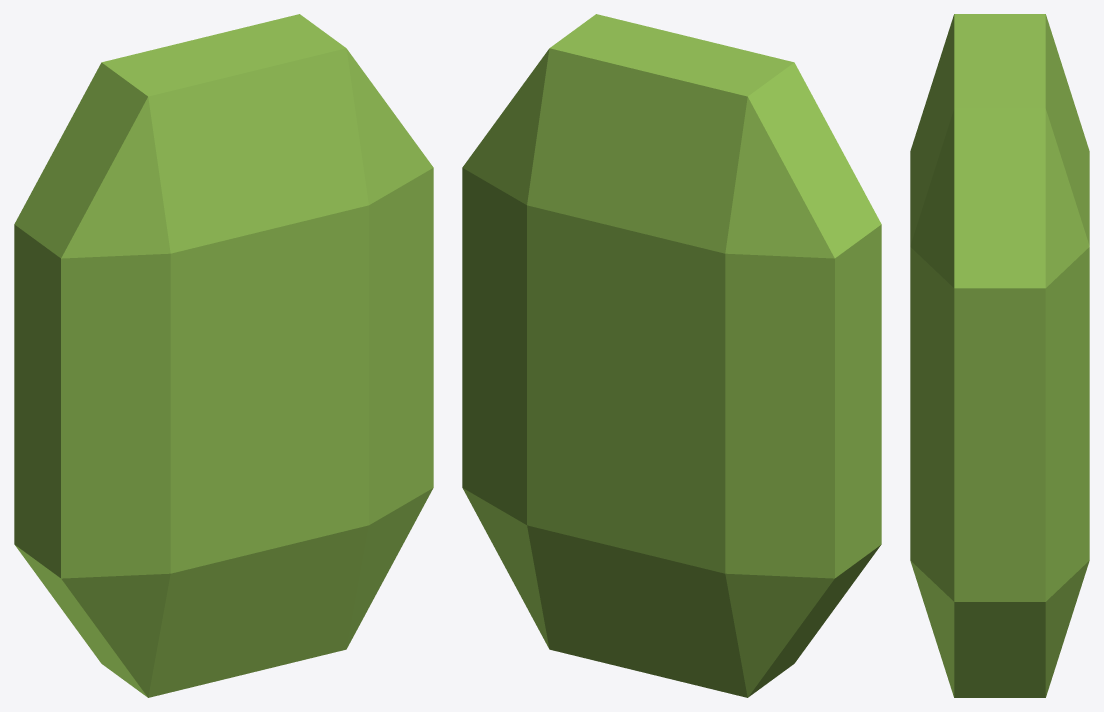
The model's file is Jade.fbx.
3 views of the same model, side by side, from view 1: azimuth 30°, elevation 25°; view 2: azimuth 150°, elevation 25°; view 3: azimuth 270°, elevation 25° (orthographic). The views are drawn at different scales.
Visible parts, largest first — view 1: Jade; view 2: Jade; view 3: Jade.
Part boxes in pixels (box(x1,y1,x2,y2)): Jade: box(14, 14, 433, 697); Jade: box(462, 14, 881, 697); Jade: box(910, 14, 1089, 697).
Size of the model in its own units: 6.49 by 10.02 by 2.77.
Materials: 1 (1 with a texture image).
